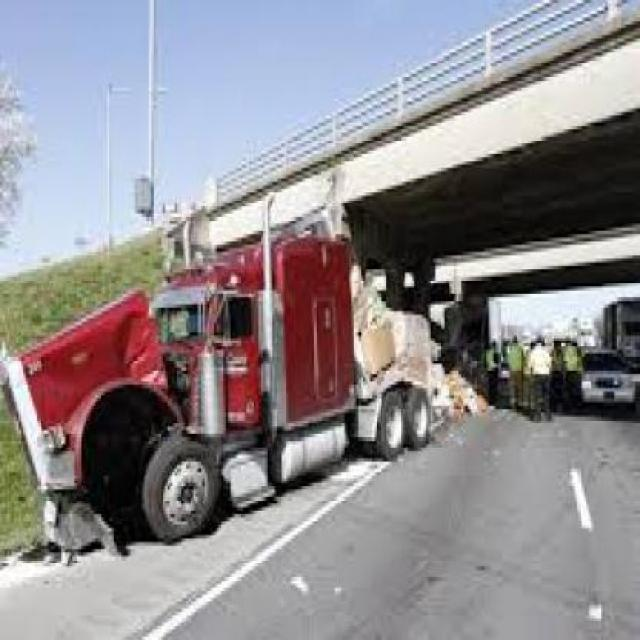accident: (2, 209, 464, 565)
